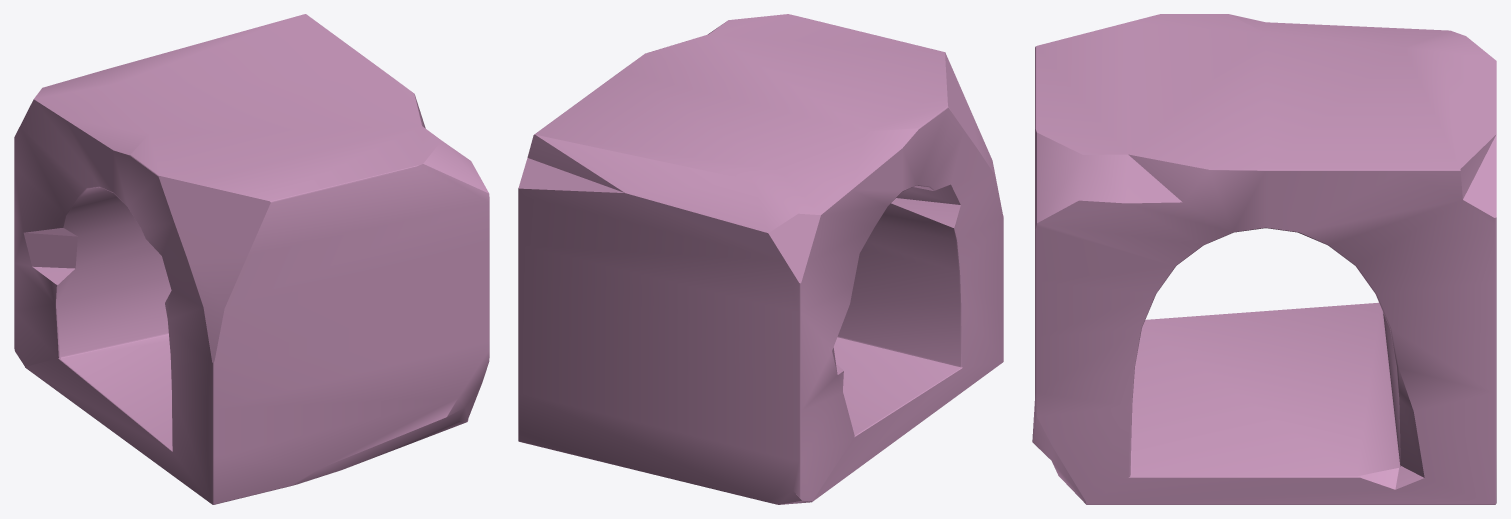
The model's file is kocia_chatka.fbx.
3 renders of one model, left to right at view 1: azimuth 30°, elevation 25°; view 2: azimuth 150°, elevation 25°; view 3: azimuth 270°, elevation 25°, orthographic. The views are drawn at different scales.
Parts seen in each view (by area): view 1: kocia_chatka; view 2: kocia_chatka; view 3: kocia_chatka.
Part boxes in pixels (x1,y1,x2,y2): kocia_chatka: [14, 14, 489, 504]; kocia_chatka: [518, 14, 1003, 504]; kocia_chatka: [1032, 14, 1496, 504].
Size of the model in its own units: 211 by 200 by 251.
